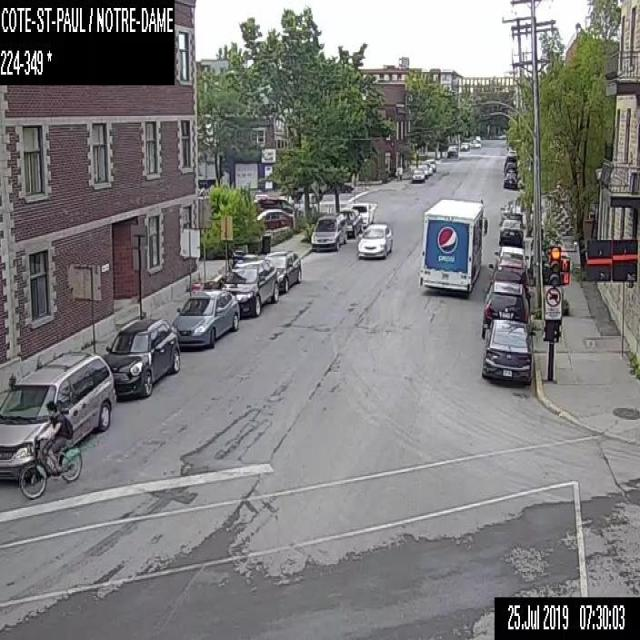cyclist: (19, 399, 81, 499)
pedestrian: (398, 164, 402, 180), (394, 166, 398, 180)
vehicle: (0, 349, 115, 483), (418, 196, 488, 293), (104, 318, 180, 398), (171, 290, 239, 350), (480, 318, 532, 389), (221, 258, 278, 317), (481, 280, 530, 338), (264, 249, 302, 292), (310, 213, 346, 250), (356, 224, 392, 258), (252, 195, 303, 218), (488, 255, 528, 281), (255, 208, 293, 228), (498, 218, 523, 246), (337, 209, 362, 236), (493, 245, 529, 263), (351, 202, 373, 225), (499, 203, 522, 225), (502, 172, 517, 189), (503, 161, 518, 176), (411, 169, 424, 183), (419, 160, 432, 174), (417, 164, 428, 178), (446, 145, 458, 157), (426, 157, 435, 172), (470, 139, 480, 148), (459, 142, 469, 150)
